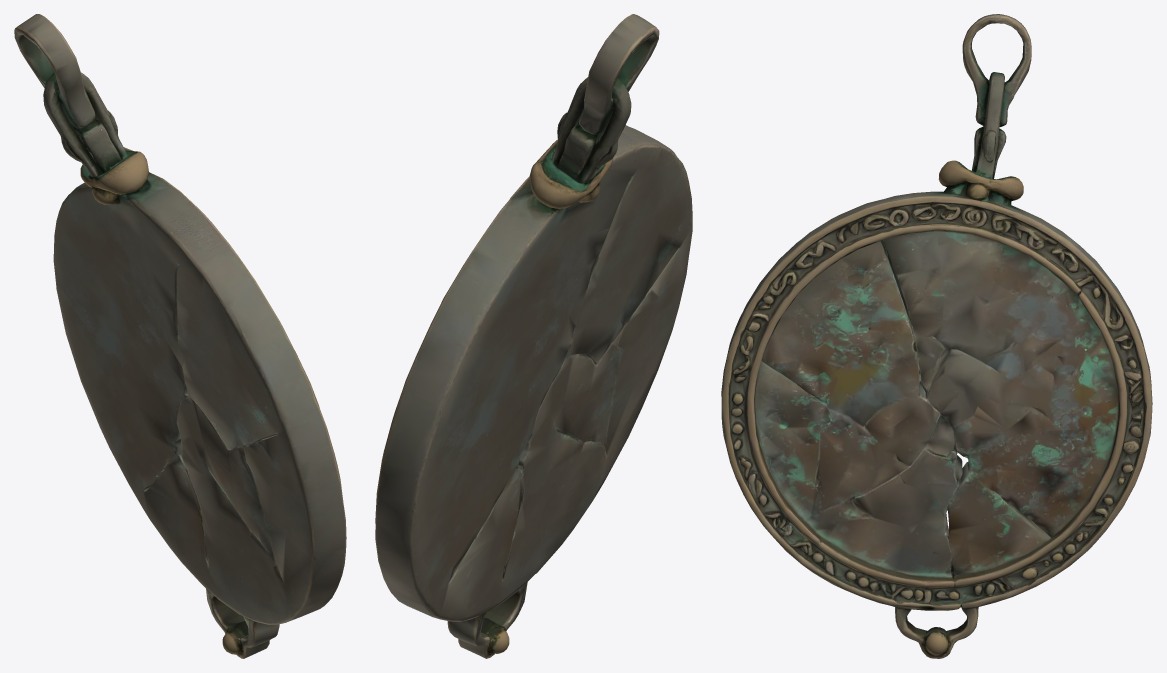
File: offer-kagami.glb
3 views of the same model, side by side, from view 1: azimuth 30°, elevation 25°; view 2: azimuth 150°, elevation 25°; view 3: azimuth 270°, elevation 25° (orthographic). The views are drawn at different scales.
Parts seen in each view (by area): view 1: tripo_node_02ca4be8-c138-490d-a3a5-25b7b3ab903b; view 2: tripo_node_02ca4be8-c138-490d-a3a5-25b7b3ab903b; view 3: tripo_node_02ca4be8-c138-490d-a3a5-25b7b3ab903b.
Part boxes in pixels (x1,y1,x2,y2): tripo_node_02ca4be8-c138-490d-a3a5-25b7b3ab903b: (14,14,346,658); tripo_node_02ca4be8-c138-490d-a3a5-25b7b3ab903b: (375,14,692,658); tripo_node_02ca4be8-c138-490d-a3a5-25b7b3ab903b: (721,14,1152,658).
Bounding box in the file's own units: 0.3414 × 0.9995 × 0.6848.
1 material, 1 textured.
